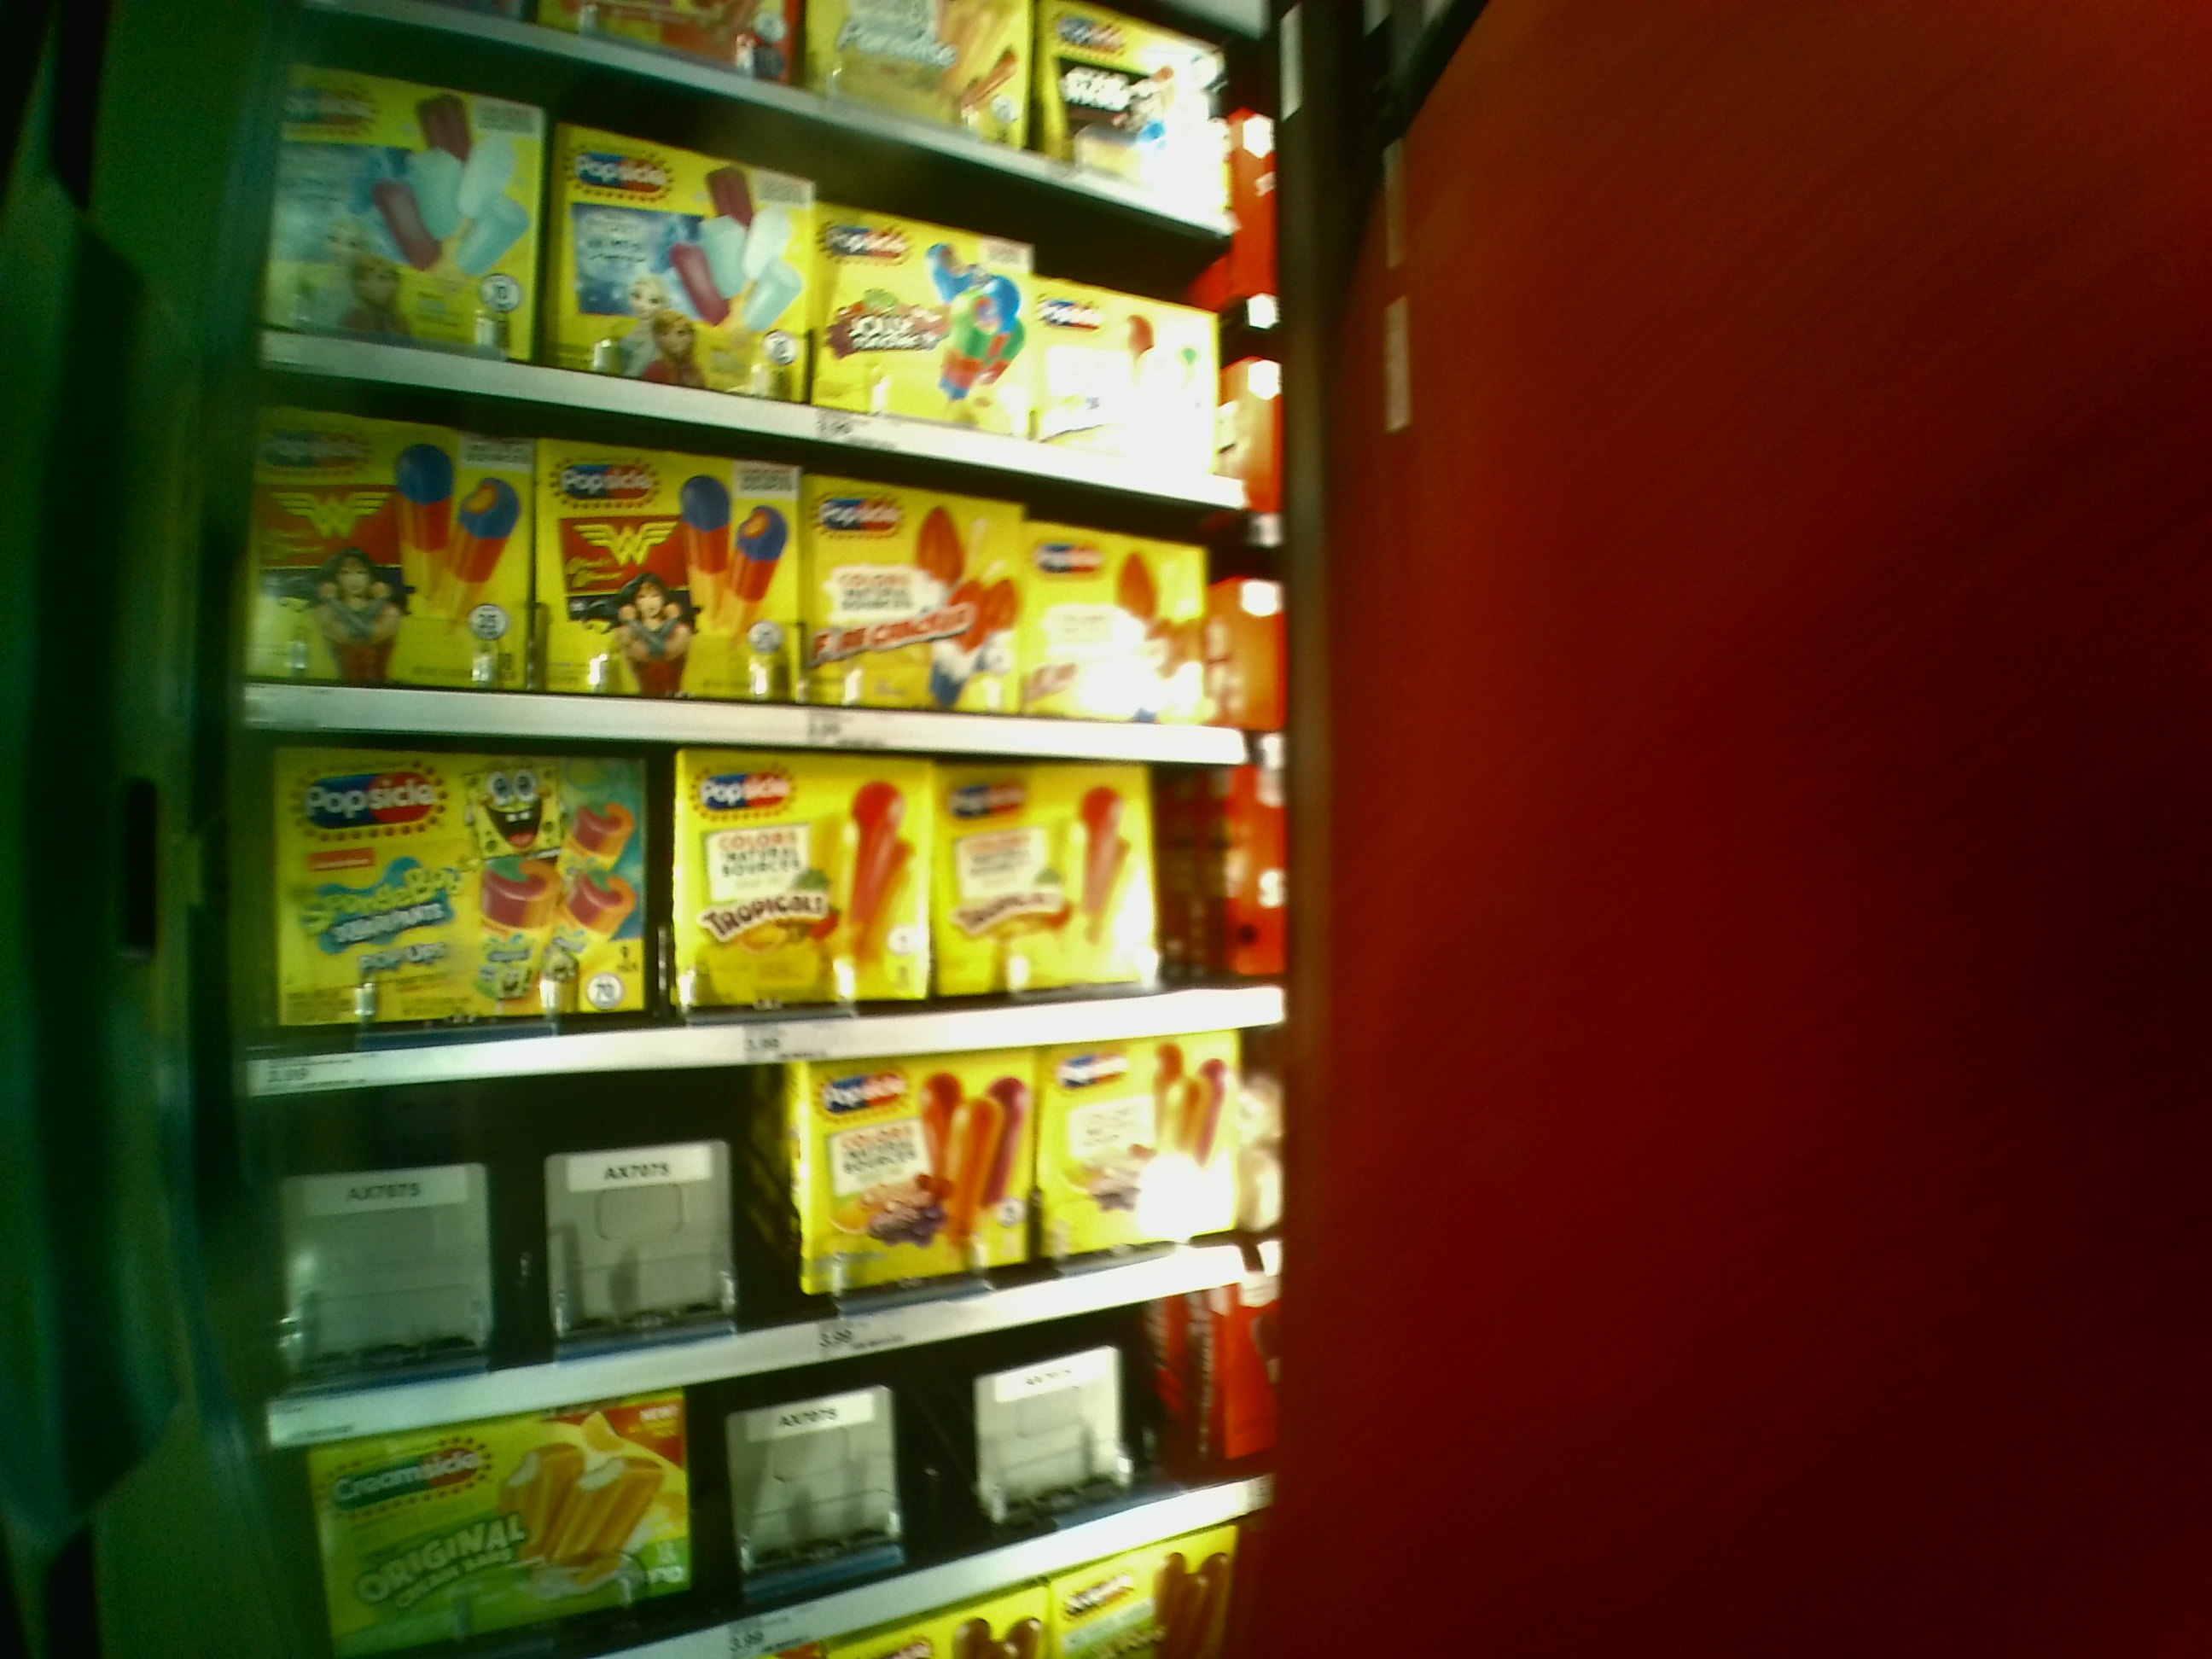shelf: (232, 732, 1258, 1049), (246, 446, 1271, 762), (263, 132, 1270, 450), (251, 1046, 1278, 1356)
